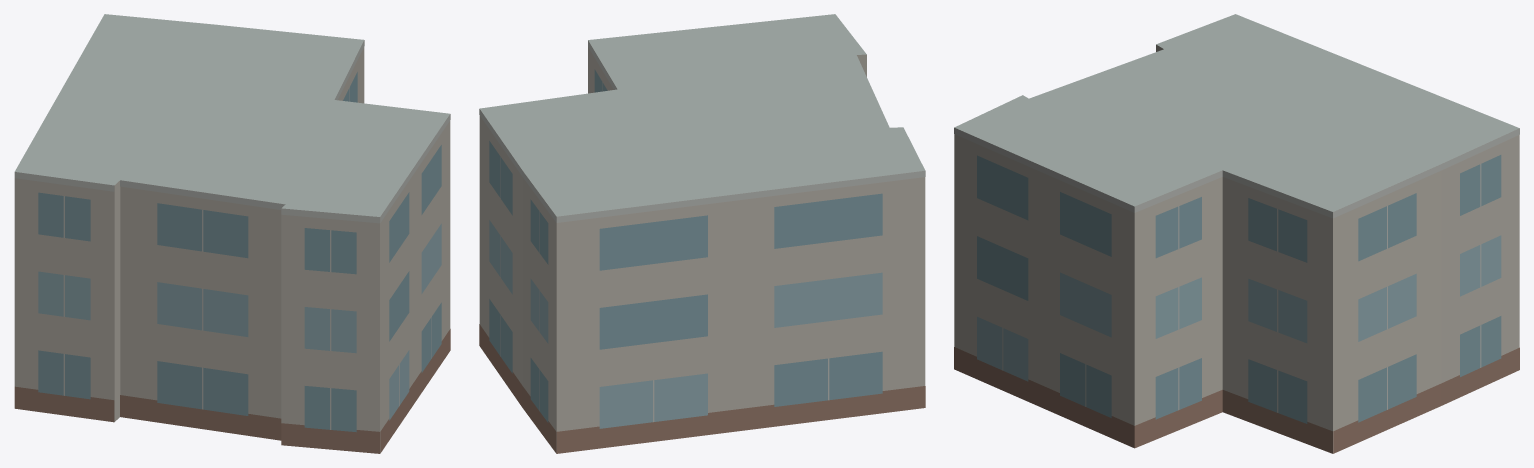
File: survey-upis-32529044.glb
The picture shows the model from 3 angles, left to right: view 1: azimuth 30°, elevation 25°; view 2: azimuth 150°, elevation 25°; view 3: azimuth 270°, elevation 25°; orthographic projection. The views are drawn at different scales.
Parts seen in each view (by area): view 1: survey-upis-32529044.tmp; view 2: survey-upis-32529044.tmp; view 3: survey-upis-32529044.tmp.
Boxes of the visible parts, box(x1,y1,x2,y2) form: survey-upis-32529044.tmp: box(14, 14, 450, 453); survey-upis-32529044.tmp: box(479, 14, 925, 453); survey-upis-32529044.tmp: box(954, 14, 1519, 453).
Bounding box in the file's own units: 16.08 × 9.15 × 19.4.
